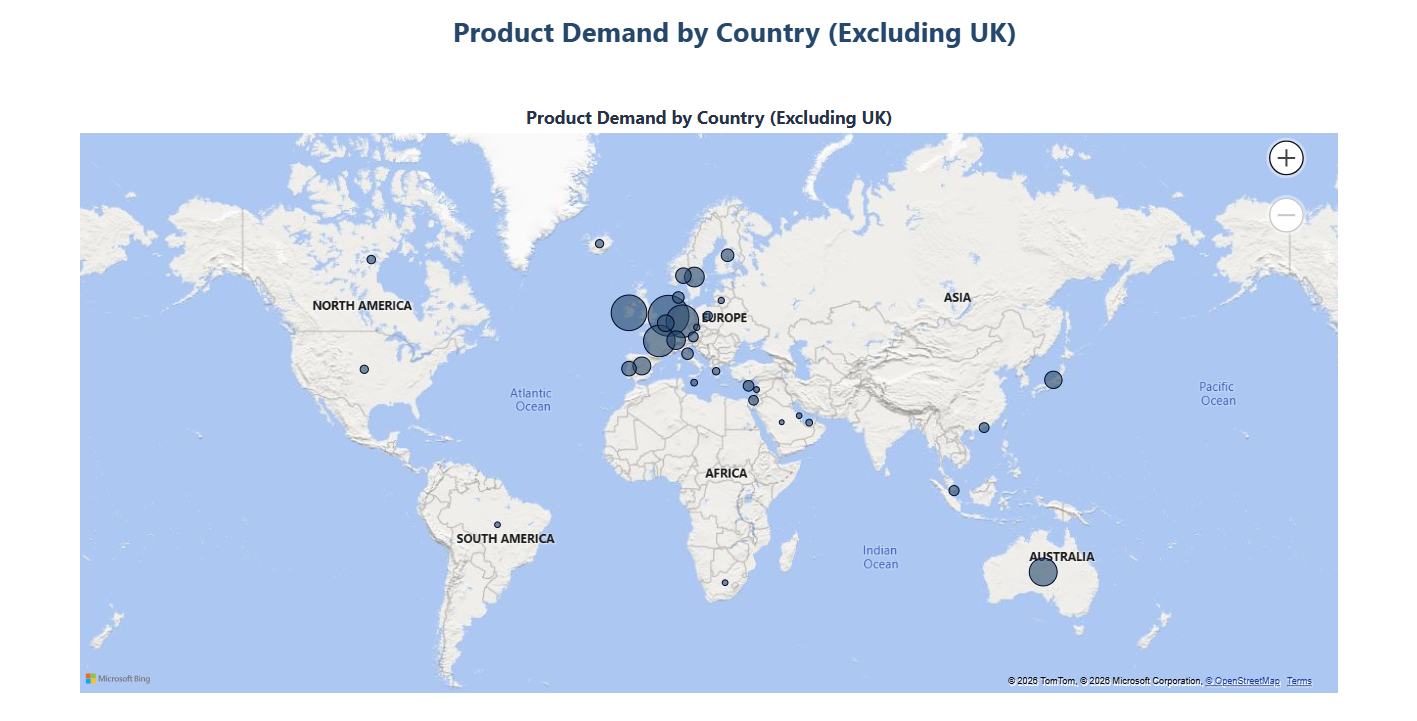

What the dashboard file says about the page in this screenshot:
{"tool":"powerbi","page":{"name":" Q4-Demand by Country","canvas":[1400,720],"ordinal":3},"visuals":[{"type":"map","title":"Product Demand by Country (Excluding UK)","fields":{"Category":["Online Retail Data Set.Country"],"Size":["Sum(Online Retail Data Set.Quantity)"]},"box":[80,110,1240,580],"z":0},{"type":"textbox","box":[443.9,15.3,585,57.2],"z":1}]}

Visuals, with their boxes in screenshot pixels (x1, y1, x2, y2), scaled from the page's 1400x720 canvas onto the 1417x721 screenshot:
"Product Demand by Country (Excluding UK)" map: [left=81, top=110, right=1336, bottom=691]
textbox: [left=449, top=15, right=1041, bottom=73]
